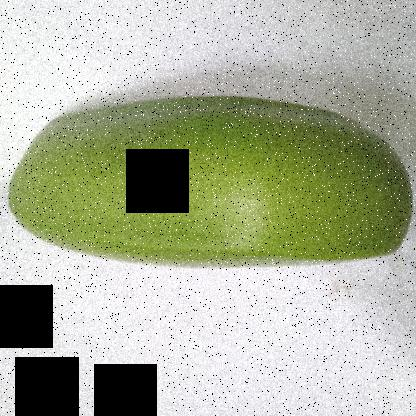freshunripe: (1, 77, 413, 269)
